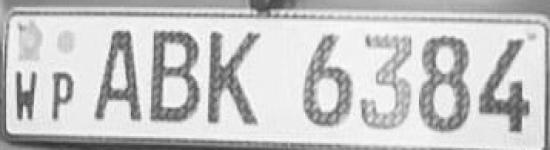3: (360, 26, 417, 134)
4: (476, 27, 539, 141)
6: (293, 27, 360, 132)
8: (417, 25, 479, 138)
A: (89, 27, 149, 130)
B: (206, 26, 274, 132), (149, 29, 208, 131)
P: (49, 67, 86, 127)
W: (11, 68, 46, 128)
